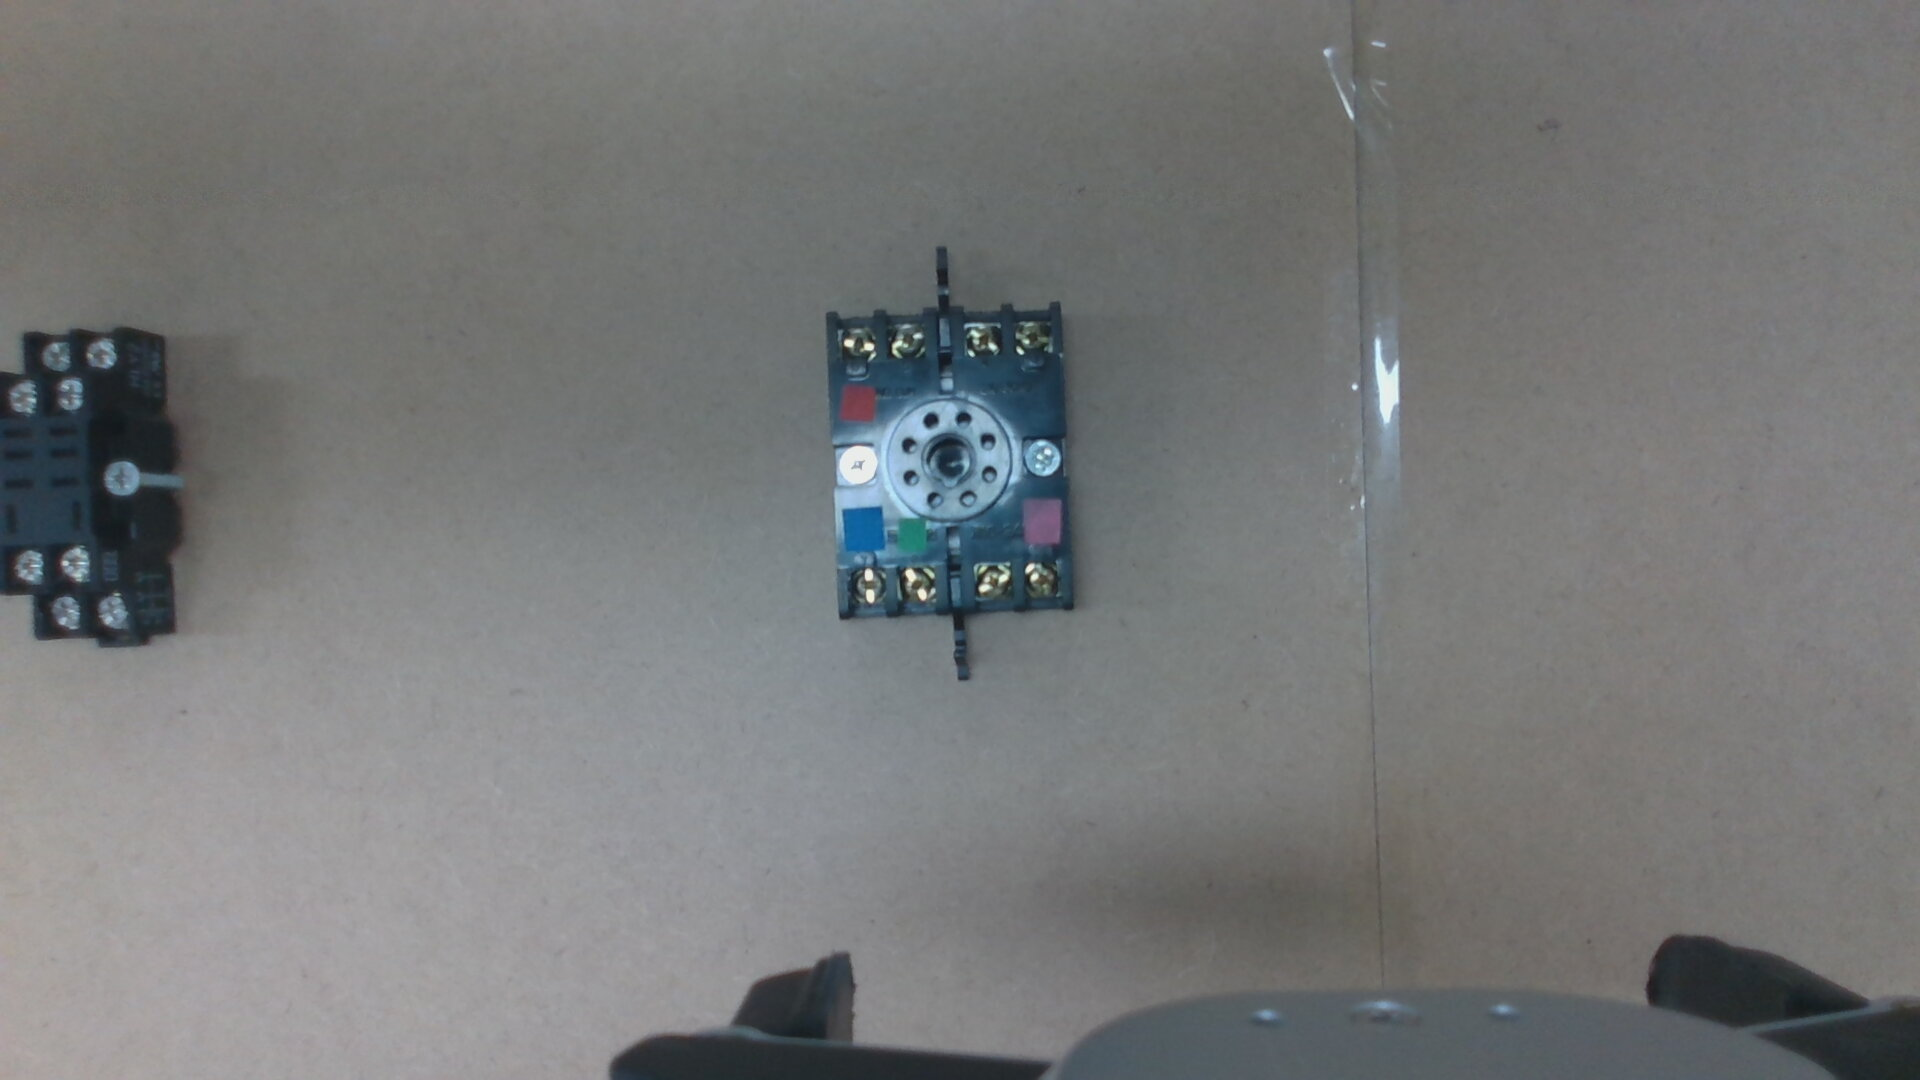timer 2: (1025, 563, 1056, 595)
timer 6: (837, 327, 876, 356)
timer 7: (848, 570, 884, 604)
timer 8: (899, 568, 934, 601)
